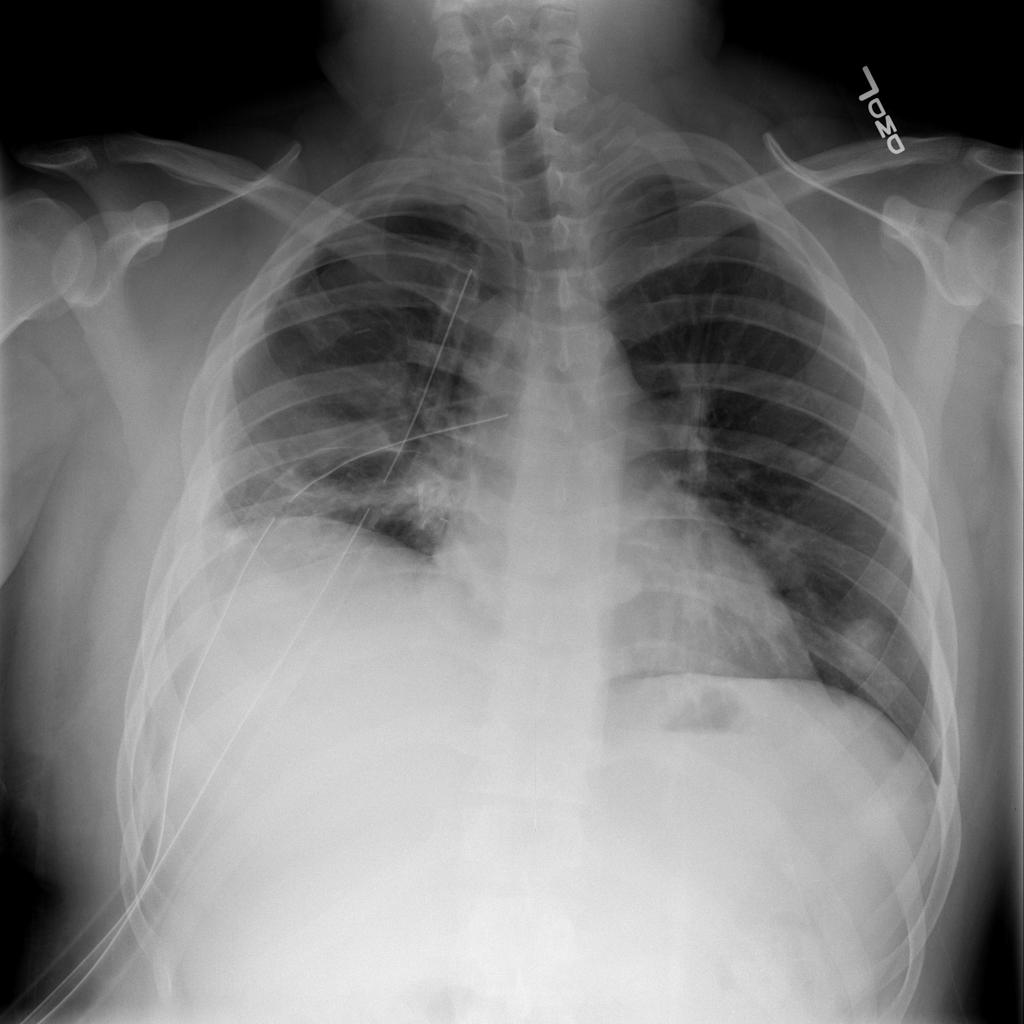nodule: (825, 606, 905, 688), (744, 522, 824, 596), (588, 545, 655, 619)
